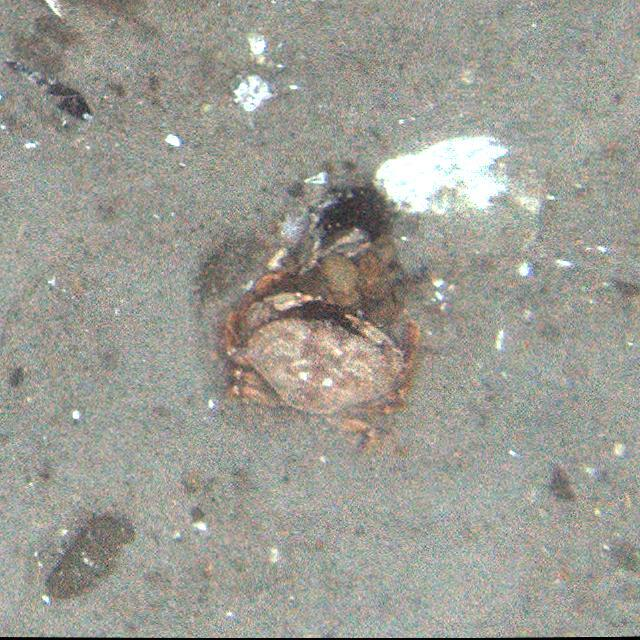crab: (229, 273, 424, 449)
